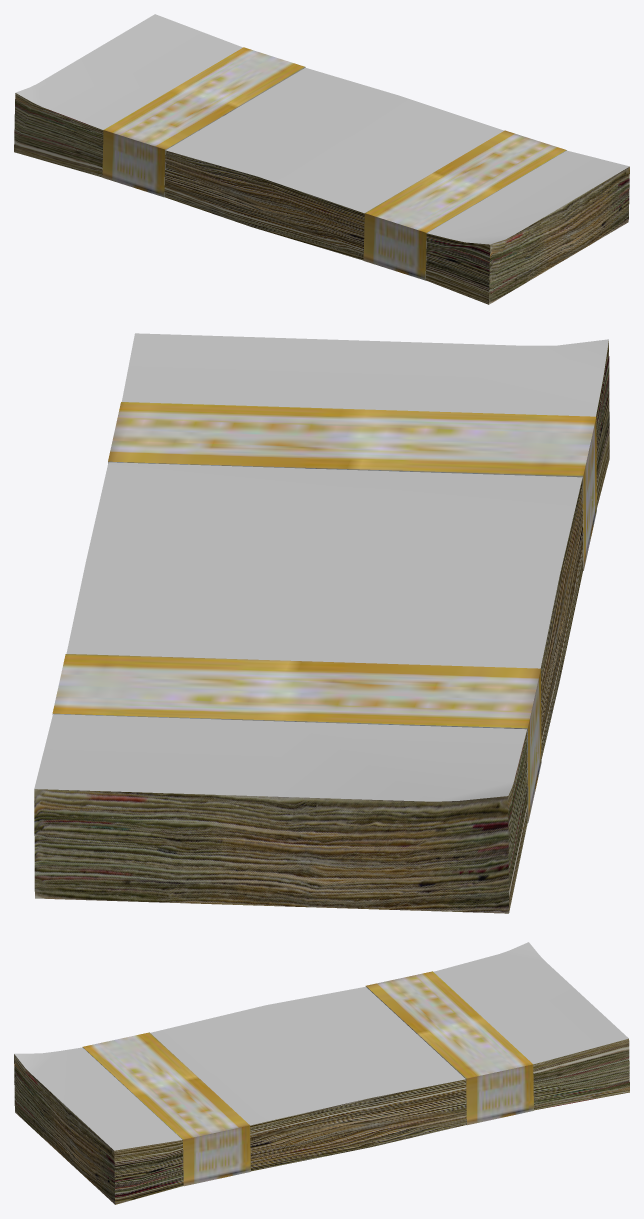
The model's file is money_middle.fbx.
The picture shows the model from 3 angles, top to bottom: view 1: azimuth 30°, elevation 25°; view 2: azimuth 150°, elevation 25°; view 3: azimuth 270°, elevation 25°; orthographic projection. The views are drawn at different scales.
Parts seen in each view (by area): view 1: Cube.003; view 2: Cube.003; view 3: Cube.003.
Part boxes in pixels (left/top/right/bottom): Cube.003: left=14, top=14, right=629, bottom=304; Cube.003: left=34, top=333, right=609, bottom=913; Cube.003: left=14, top=942, right=629, bottom=1204.
Bounding box in the file's own units: 274 × 47.2 × 371.
